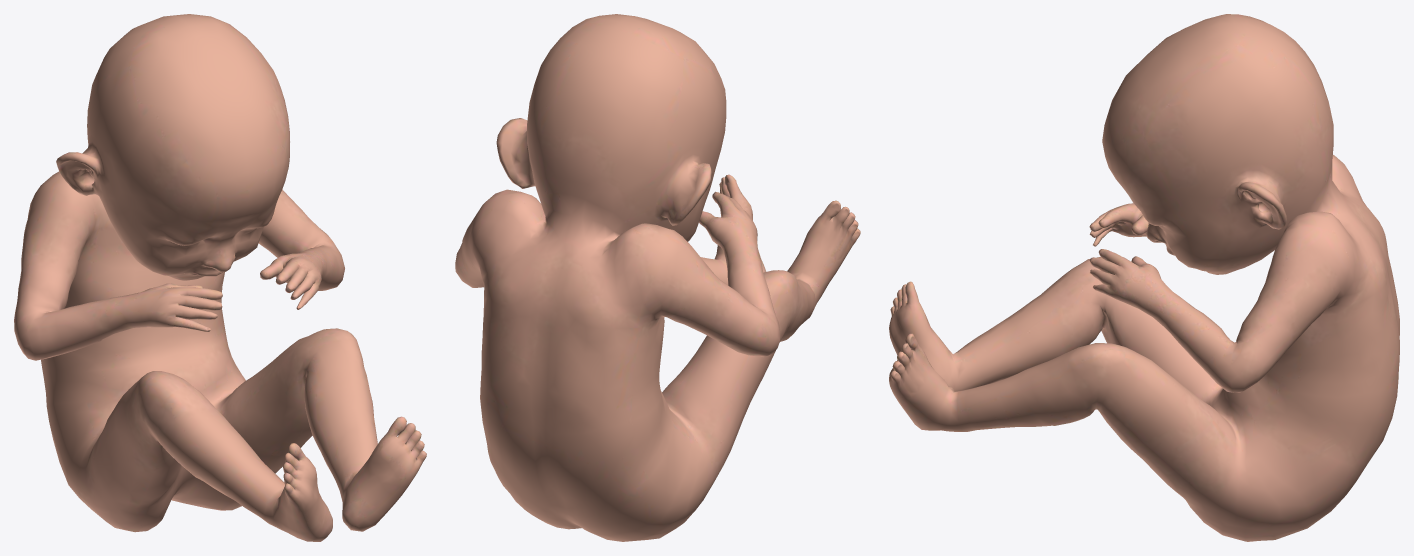
The picture shows the model from 3 angles, left to right: view 1: azimuth 30°, elevation 25°; view 2: azimuth 150°, elevation 25°; view 3: azimuth 270°, elevation 25°; orthographic projection.
Visible parts, largest first — view 1: Baby; view 2: Baby; view 3: Baby.
Boxes of the visible parts, x1,y1,x2,y2 form: Baby: (14,14,426,541); Baby: (455,14,860,541); Baby: (889,14,1399,541).
Size of the model in its own units: 0.2328 by 0.3478 by 0.3253.
1 material, 1 textured.
